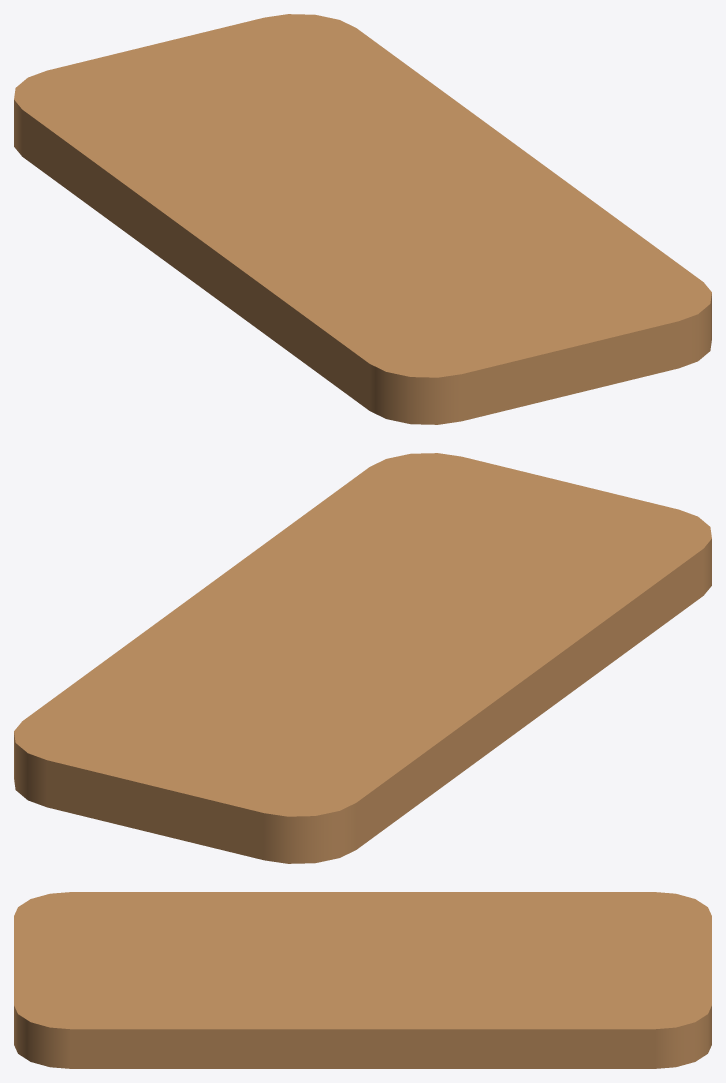
The model's file is kitchen-chopping-board.gltf.
3 renders of one model, top to bottom at view 1: azimuth 30°, elevation 25°; view 2: azimuth 150°, elevation 25°; view 3: azimuth 270°, elevation 25°, orthographic. The views are drawn at different scales.
Visible parts, largest first — view 1: Oak chopping board; view 2: Oak chopping board; view 3: Oak chopping board.
Part boxes in pixels (box(x1,y1,x2,y2)): Oak chopping board: box(14, 14, 711, 424); Oak chopping board: box(14, 453, 711, 863); Oak chopping board: box(14, 892, 711, 1068).
Bounding box in the file's own units: 0.2 × 0.027 × 0.43.
